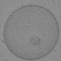small: (31, 36, 40, 46)
